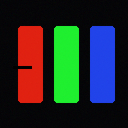3 line_h: (13, 66, 31, 68)
